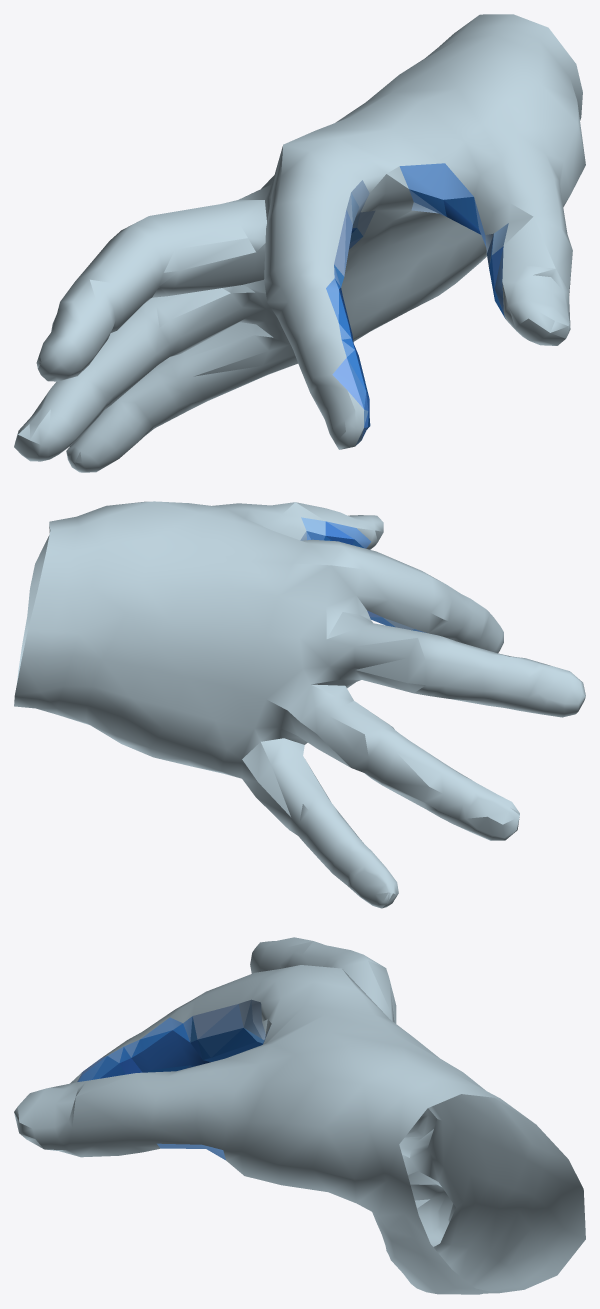
Rendered from mocap_pinch.glb.
The picture shows the model from 3 angles, top to bottom: view 1: azimuth 30°, elevation 25°; view 2: azimuth 150°, elevation 25°; view 3: azimuth 270°, elevation 25°; orthographic projection. The views are drawn at different scales.
Visible parts, largest first — view 1: mesh0; view 2: mesh0; view 3: mesh0.
Boxes of the visible parts, <box> form: mesh0: <box>14,14,585,472</box>; mesh0: <box>14,501,585,908</box>; mesh0: <box>14,937,585,1294</box>.
Bounding box in the file's own units: 0.1865 × 0.1079 × 0.15.
